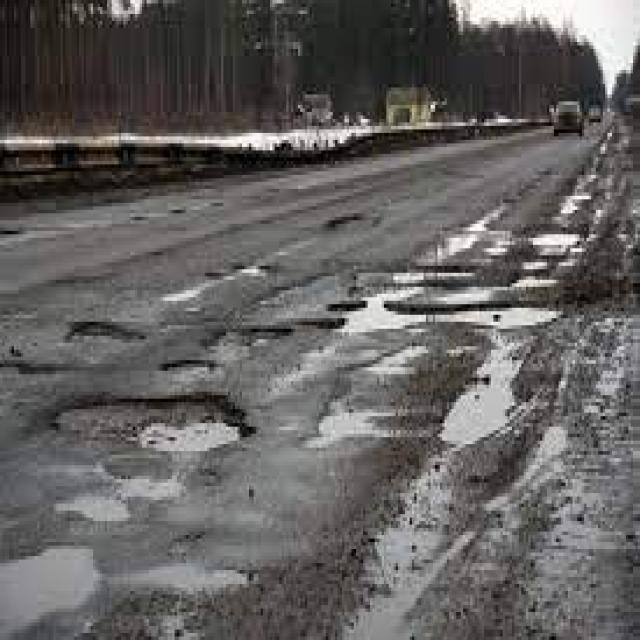Pothole: (91, 423, 237, 511), (440, 339, 533, 448), (361, 266, 484, 332), (386, 301, 561, 336), (0, 549, 91, 602), (67, 322, 140, 343), (531, 231, 579, 262), (449, 217, 479, 252), (317, 409, 354, 434), (223, 262, 265, 283), (165, 357, 216, 371), (219, 325, 251, 346), (463, 392, 489, 413), (535, 227, 573, 241)
